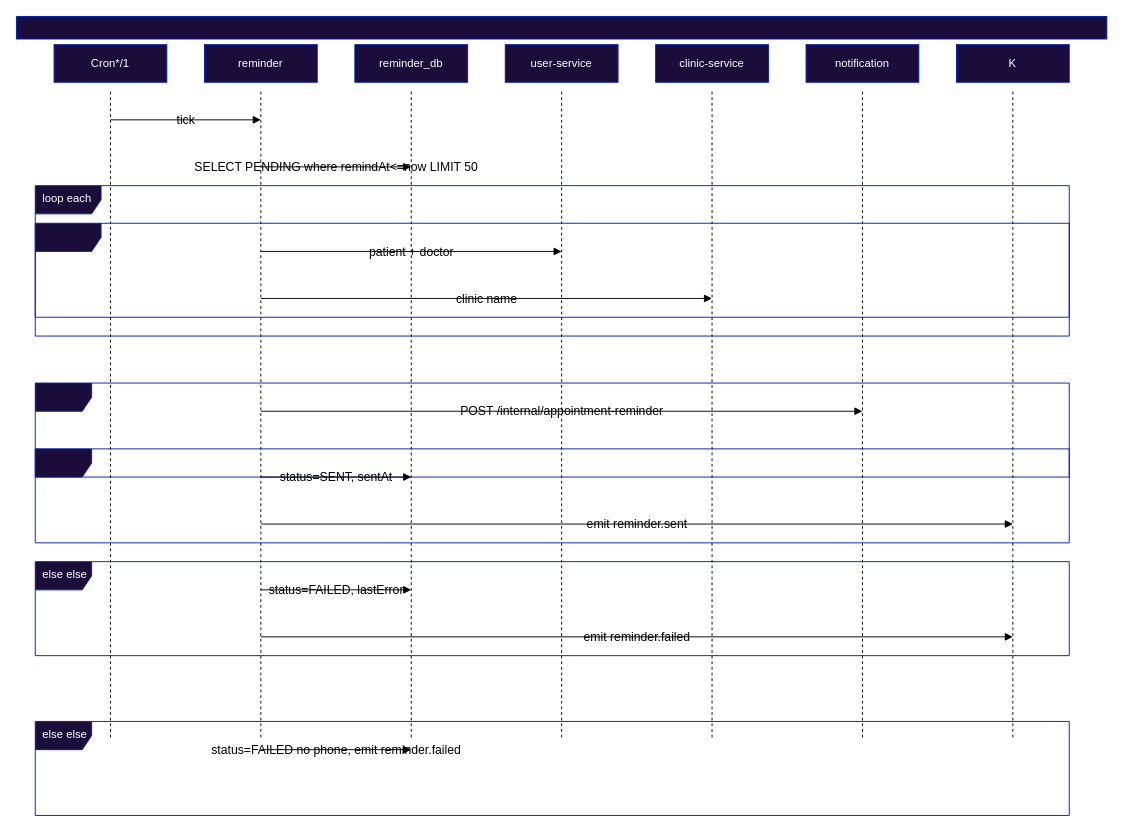
The diagram is 1123 pixels wide and 832 high, and some of its shapes have lost their labels. The centre of each missing label's shape, as x and y in pixels:
alt phone present: the point at 551,429
alt success: the point at 551,495
par enrich: the point at 551,269
Sequence — cron dispatch: the point at 561,27
